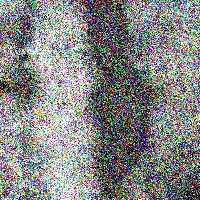patches: (84, 0, 158, 200), (0, 18, 40, 104)
